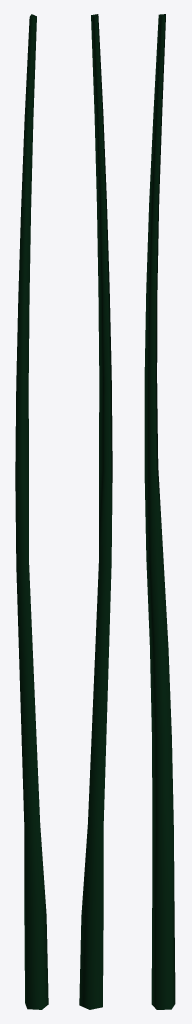
File: palo.obj
The picture shows the model from 3 angles, left to right: view 1: azimuth 30°, elevation 25°; view 2: azimuth 210°, elevation 25°; view 3: azimuth 330°, elevation 25°; orthographic projection.
Parts seen in each view (by area): view 1: polySurface13 polySurface11; view 2: polySurface13 polySurface11; view 3: polySurface13 polySurface11.
Part boxes in pixels (<box>): polySurface13 polySurface11: <box>15,14,48,1009</box>; polySurface13 polySurface11: <box>79,14,112,1009</box>; polySurface13 polySurface11: <box>144,14,175,1009</box>.
Size of the model in its own units: 0.1779 by 5.57 by 0.1426.
1 material, 1 textured.
